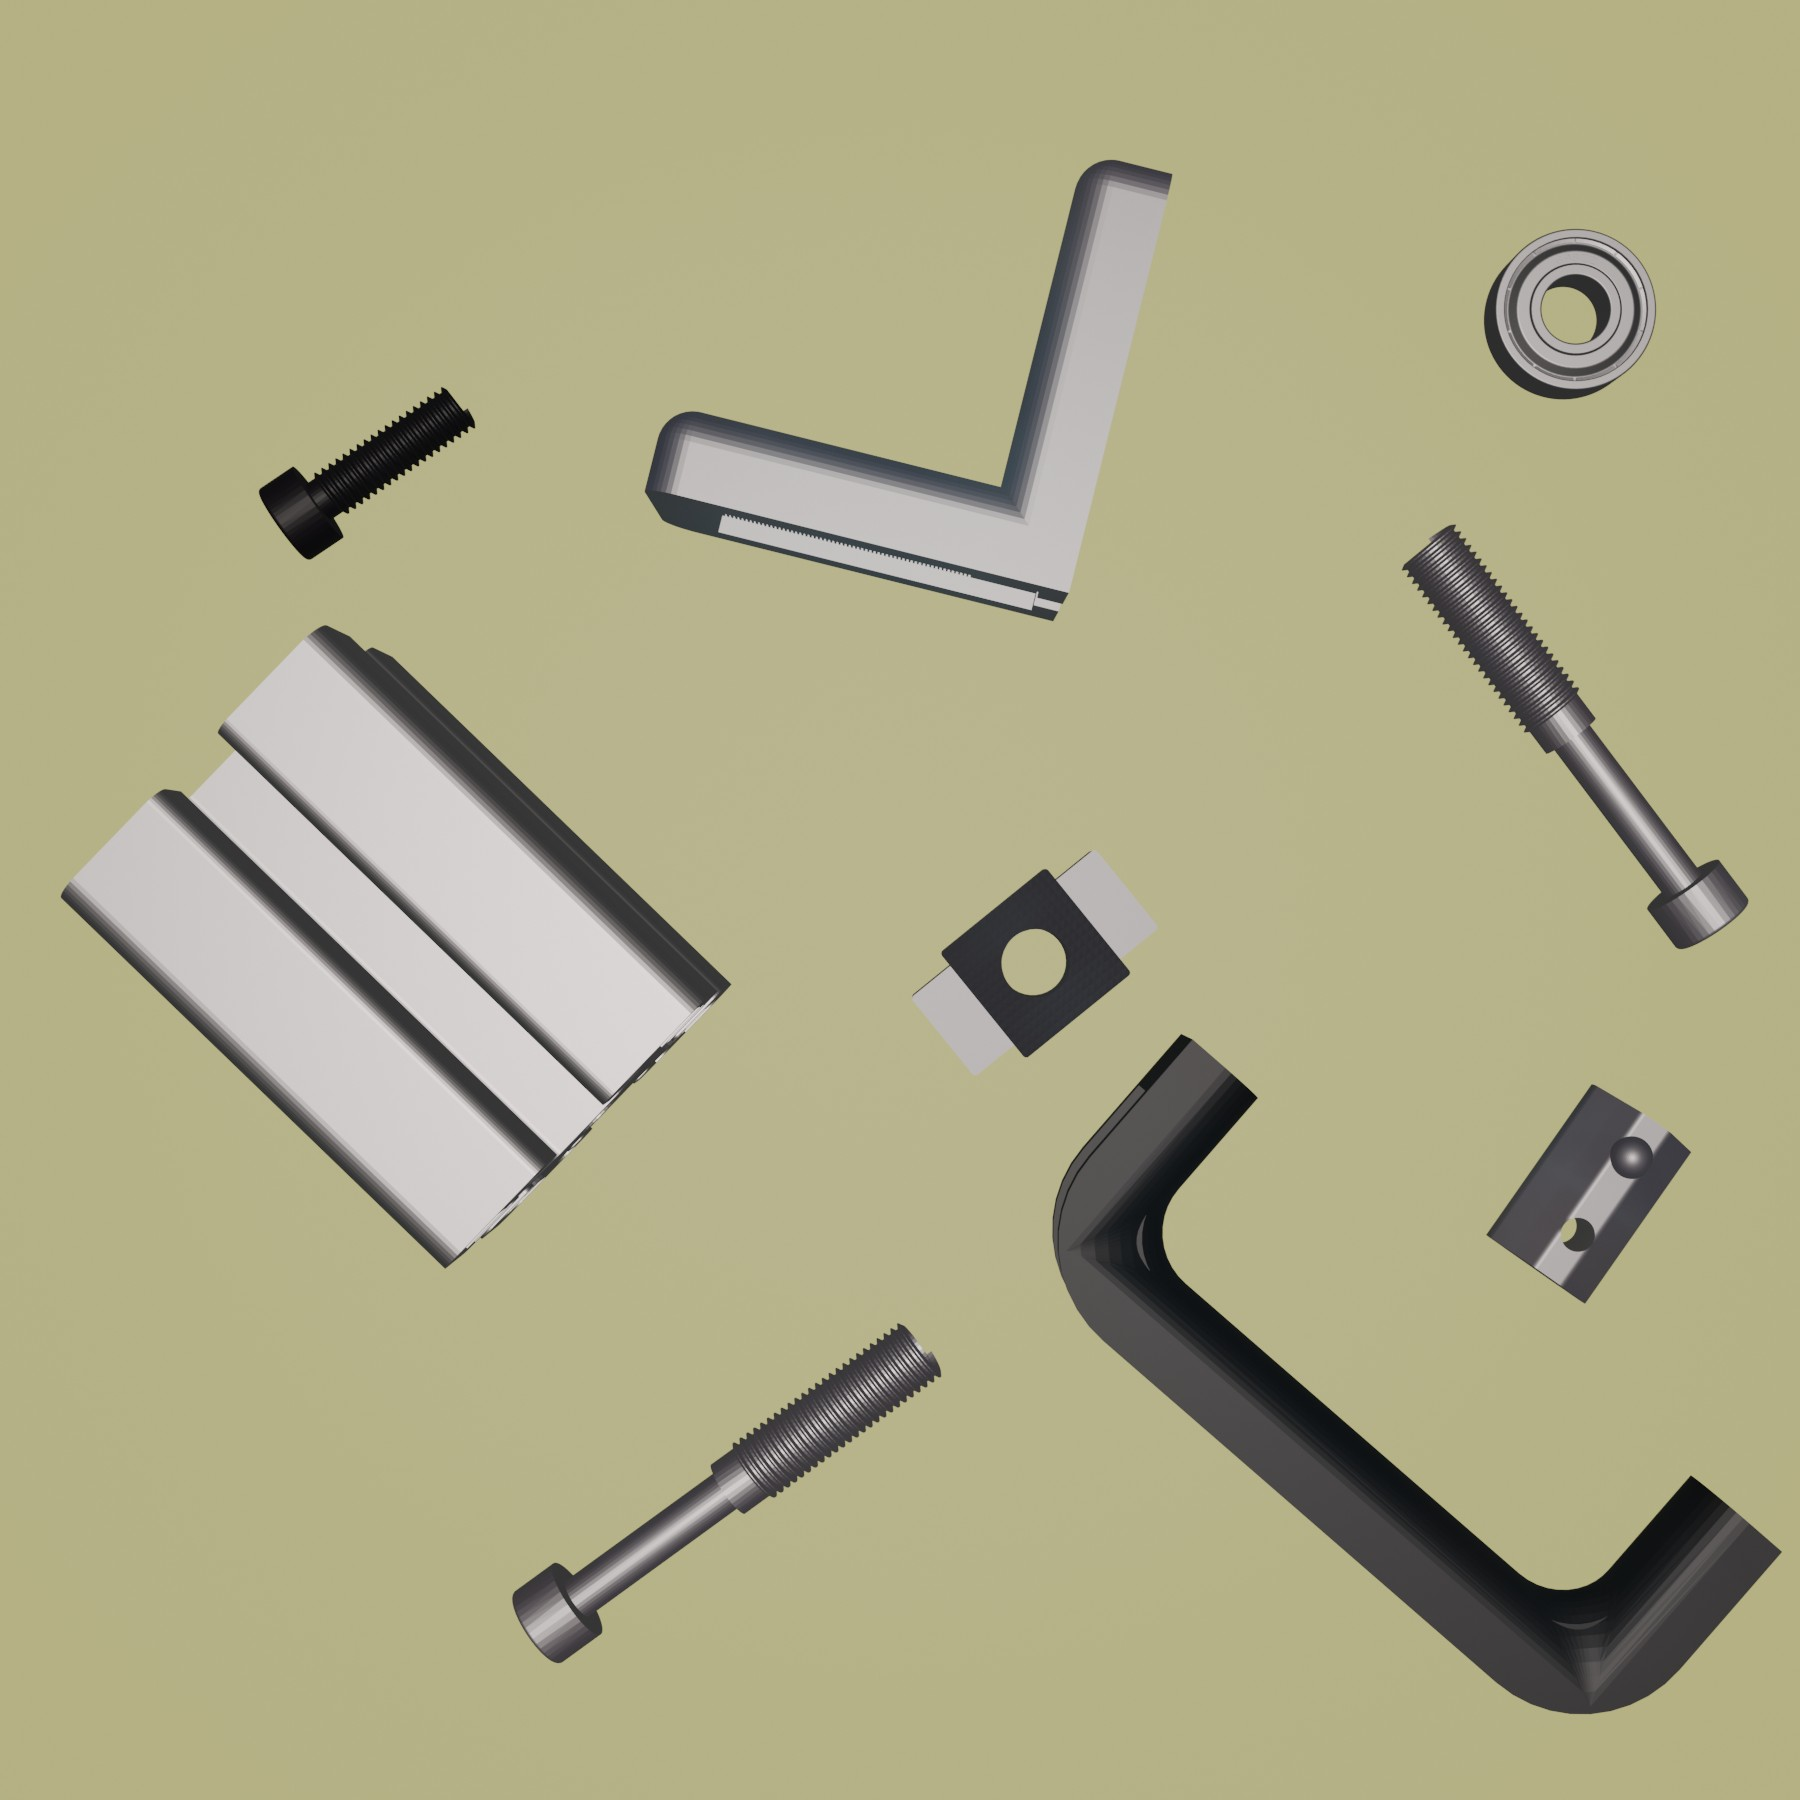Aluminium Extension: (56, 623, 734, 1273)
Ball Bearing: (1480, 226, 1658, 401)
Multiwinkel: (643, 157, 1175, 628)
Pull Handle: (1052, 1035, 1782, 1716)
Shoulder Socket Head Cap Screw: (511, 1320, 946, 1666), (1401, 523, 1752, 951)
Socket Head Cap Screw: (255, 382, 480, 564)
T Nut Square: (908, 849, 1159, 1085)
T Spring Nut: (1487, 1080, 1691, 1307)
